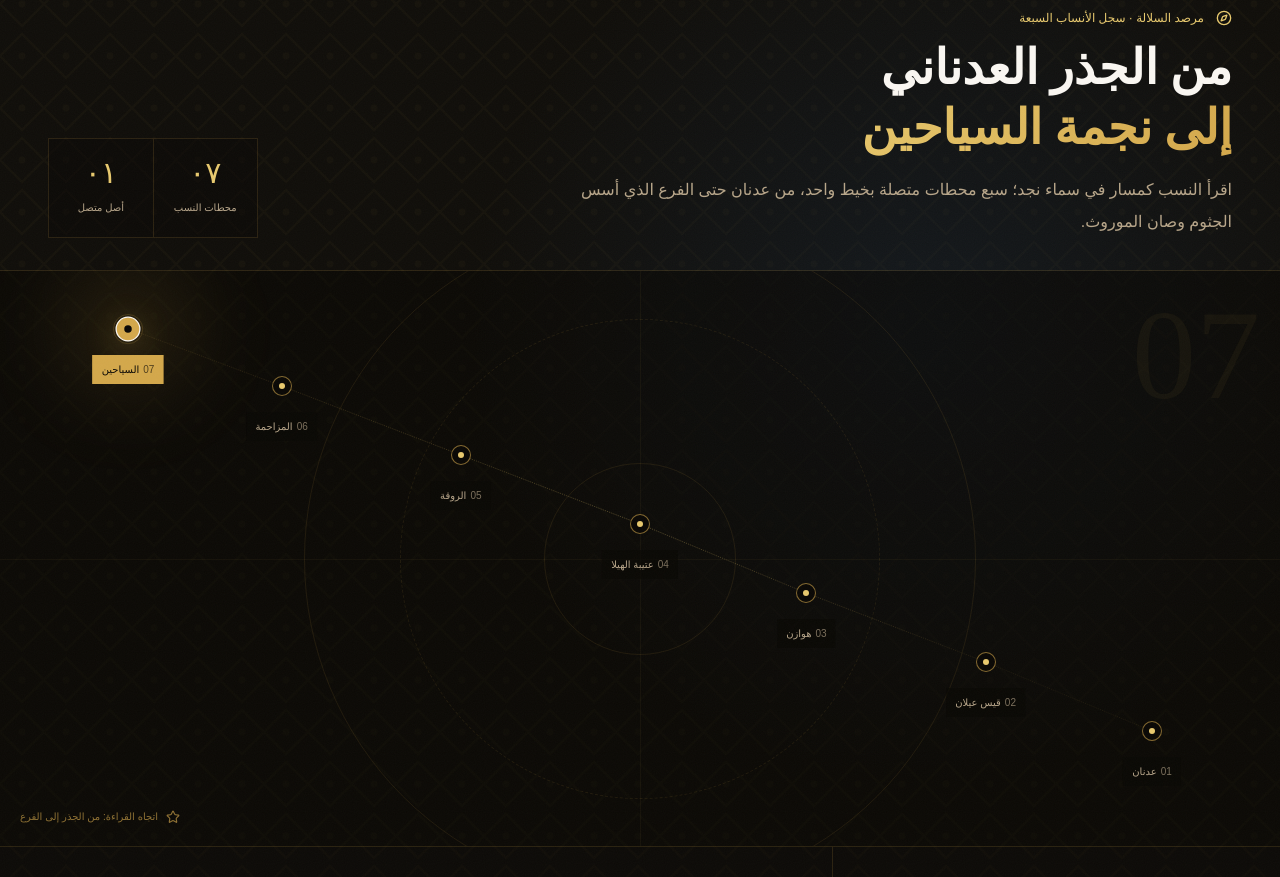
Test: ConstellationDiagram › يبدّل قراءة المرصد عند اختيار محطة نسب أخرى
The width and height of the screenshot is (1280, 877).
Click the button with aria-label "عرض نسب عدنان".
click(1152, 731)  # box left=1130, top=709, right=1174, bottom=753
(page scrolled)
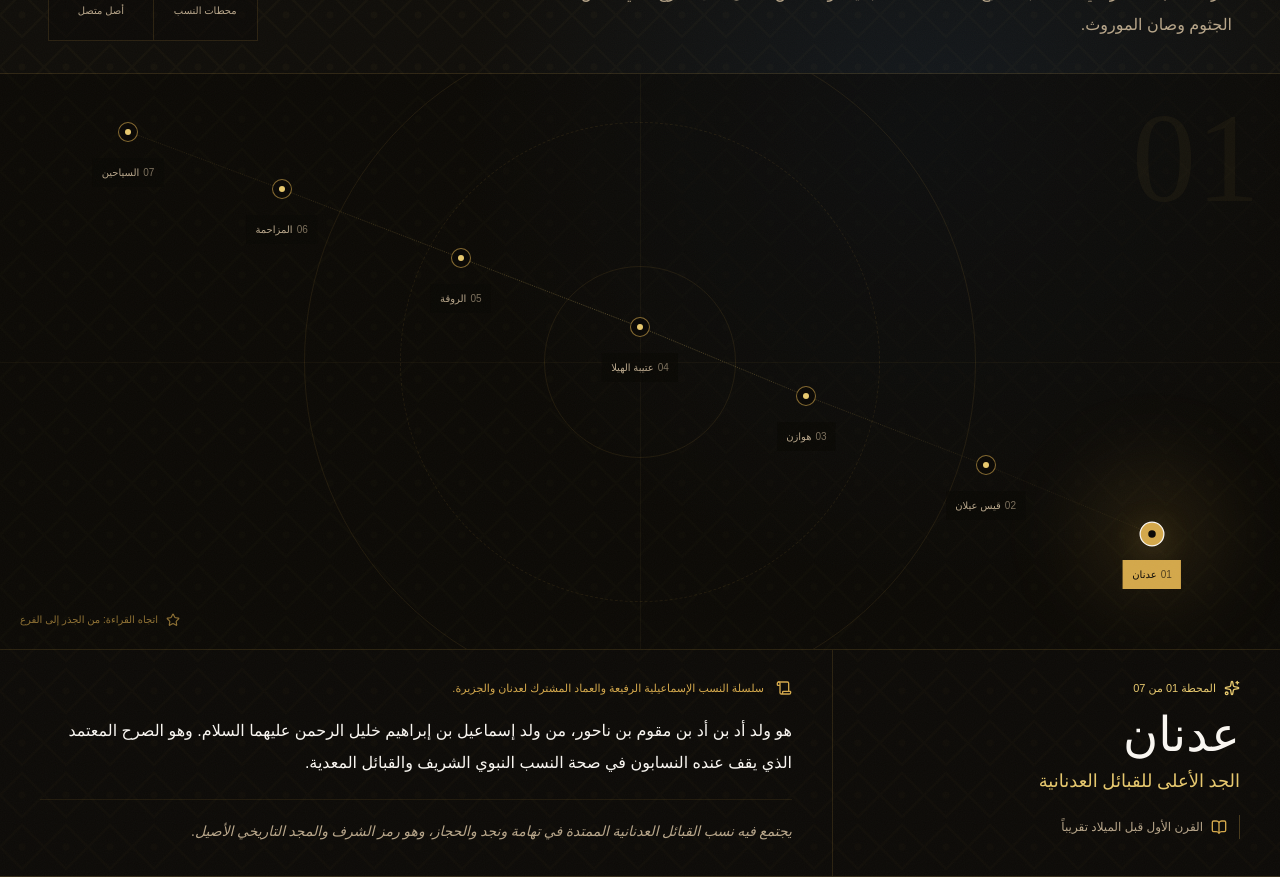
Now the element named "تفاصيل عدنان" is shown, box left=0, top=650, right=1279, bottom=876
